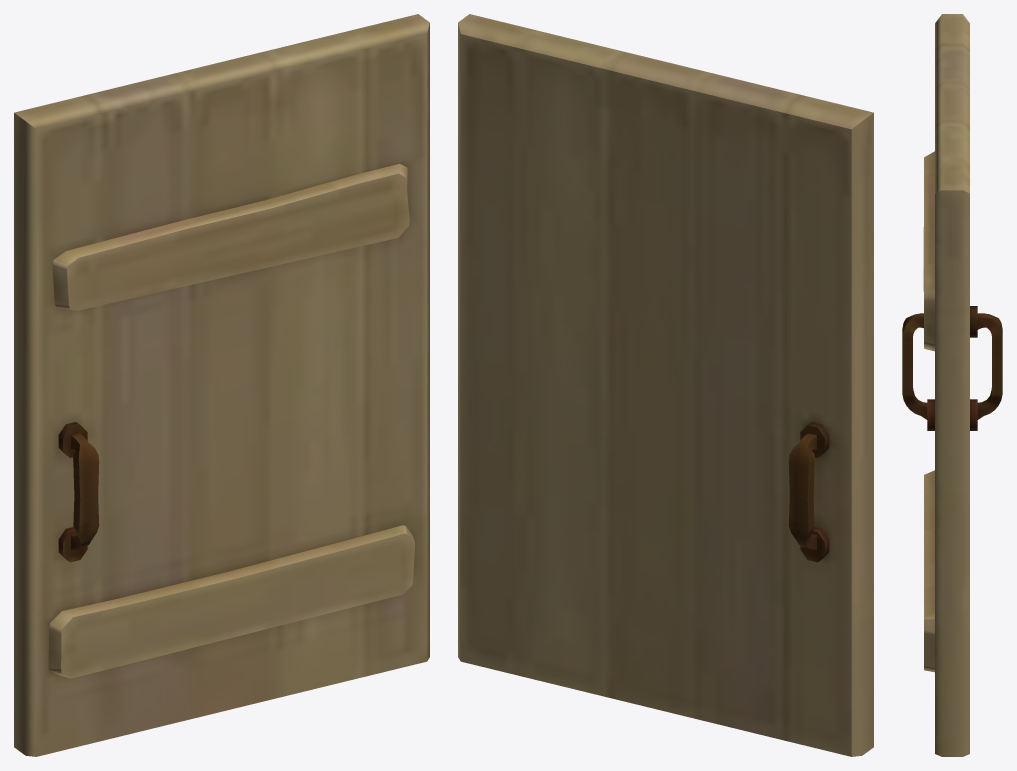
The model's file is door-simplicity-s.glb.
The picture shows the model from 3 angles, left to right: view 1: azimuth 30°, elevation 25°; view 2: azimuth 150°, elevation 25°; view 3: azimuth 270°, elevation 25°; orthographic projection. The views are drawn at different scales.
Size of the model in its own units: 12 by 18 by 2.88.
1 material, 1 textured.
